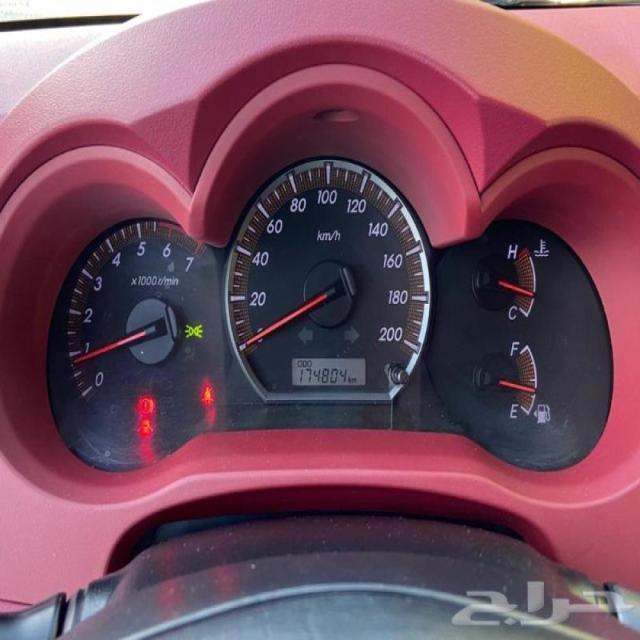Seat Belt: (201, 386, 212, 404)
